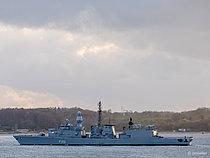MIL_Ship: (12, 108, 196, 147)
